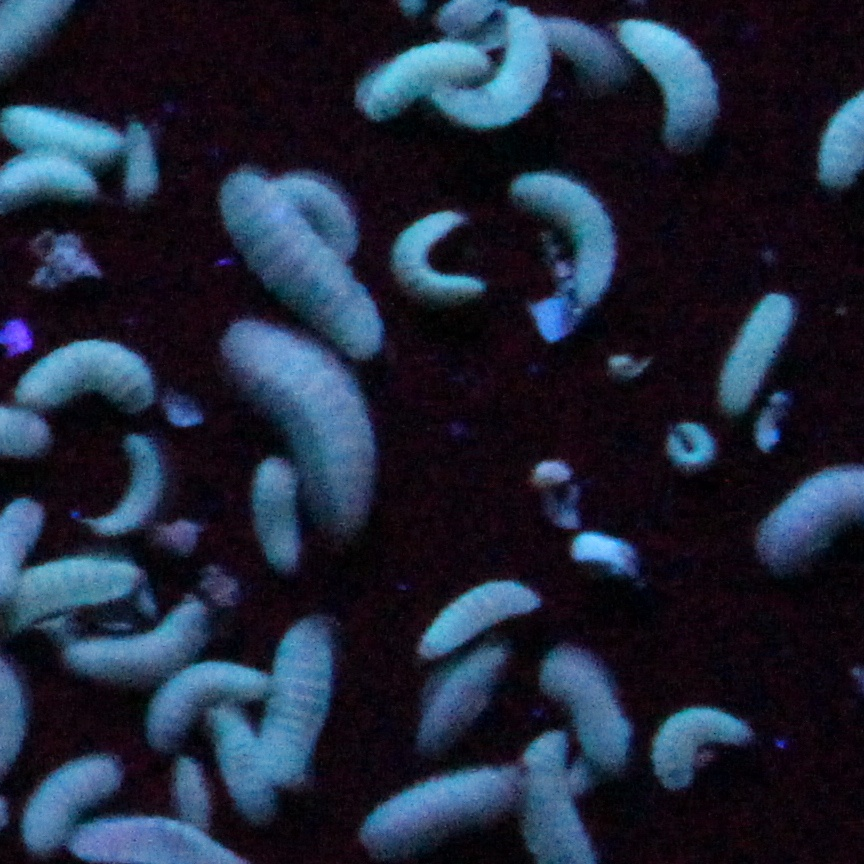larve: (251, 323, 385, 513), (236, 174, 380, 337), (536, 164, 624, 318), (624, 13, 721, 147), (368, 769, 507, 842), (460, 18, 548, 120), (390, 201, 485, 293), (275, 623, 338, 757), (717, 296, 796, 401), (26, 330, 151, 396), (414, 584, 512, 662), (77, 625, 209, 679), (426, 654, 499, 745), (560, 647, 624, 750), (668, 703, 751, 781), (253, 462, 316, 564), (165, 676, 251, 742), (558, 6, 624, 89), (26, 762, 97, 837), (33, 564, 151, 608), (368, 57, 465, 110), (224, 720, 277, 813), (99, 450, 153, 528), (11, 113, 114, 150), (299, 169, 348, 245), (175, 764, 224, 837), (131, 135, 168, 203), (672, 423, 716, 471)
